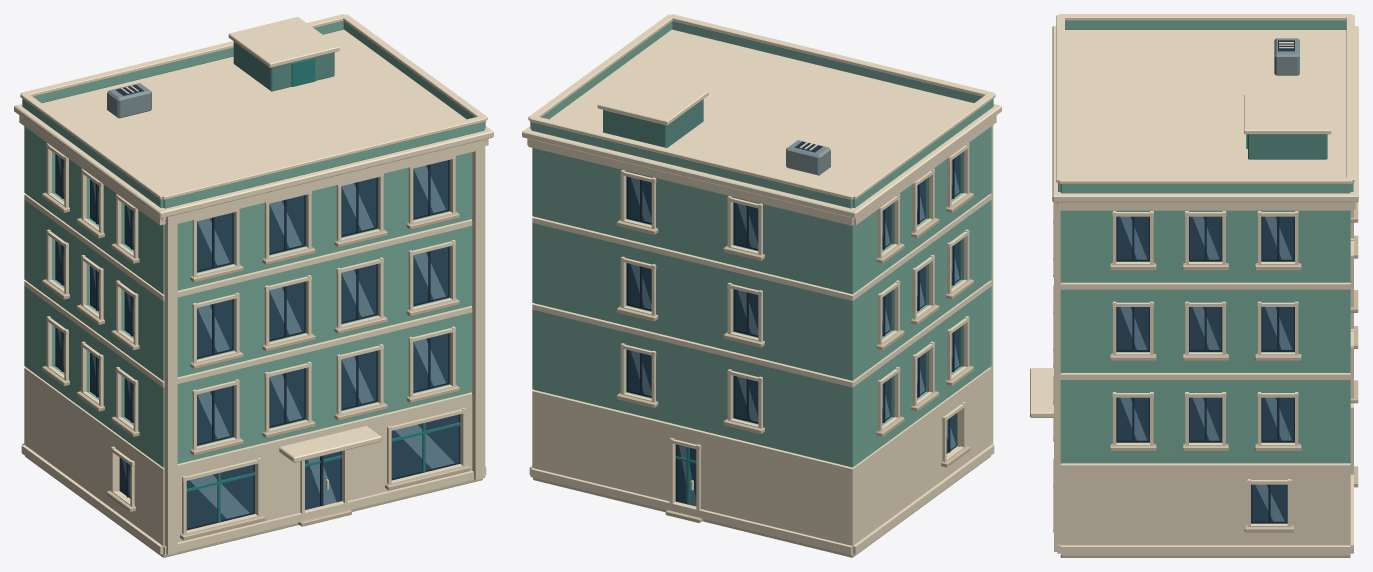
The model's file is slim_mint_tower.glb.
3 renders of one model, left to right at view 1: azimuth 30°, elevation 25°; view 2: azimuth 150°, elevation 25°; view 3: azimuth 270°, elevation 25°, orthographic. The views are drawn at different scales.
Parts seen in each view (by area): view 1: MintOfficeBlock_StaticMesh; view 2: MintOfficeBlock_StaticMesh; view 3: MintOfficeBlock_StaticMesh.
Part boxes in pixels (x1,y1,x2,y2): MintOfficeBlock_StaticMesh: [14, 14, 493, 557]; MintOfficeBlock_StaticMesh: [522, 14, 1001, 557]; MintOfficeBlock_StaticMesh: [1030, 14, 1358, 557].
Bounding box in the file's own units: 12.52 × 13.7 × 10.22.
